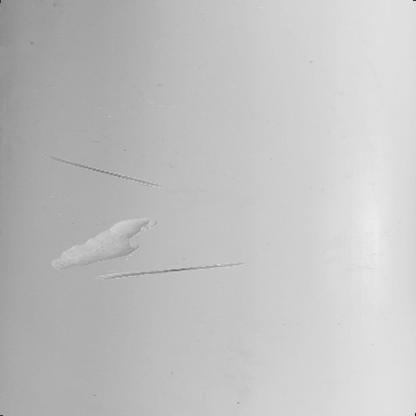sunshang: (50, 216, 152, 274), (44, 152, 166, 188), (101, 262, 251, 279)
